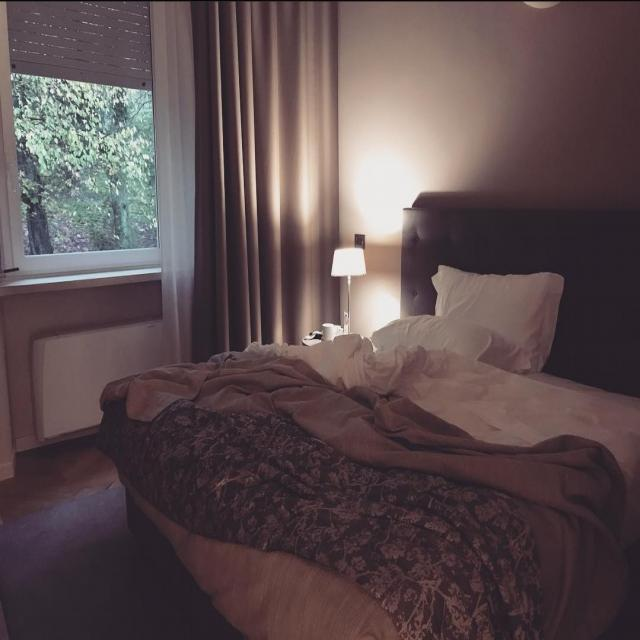bed: (156, 212, 628, 631)
